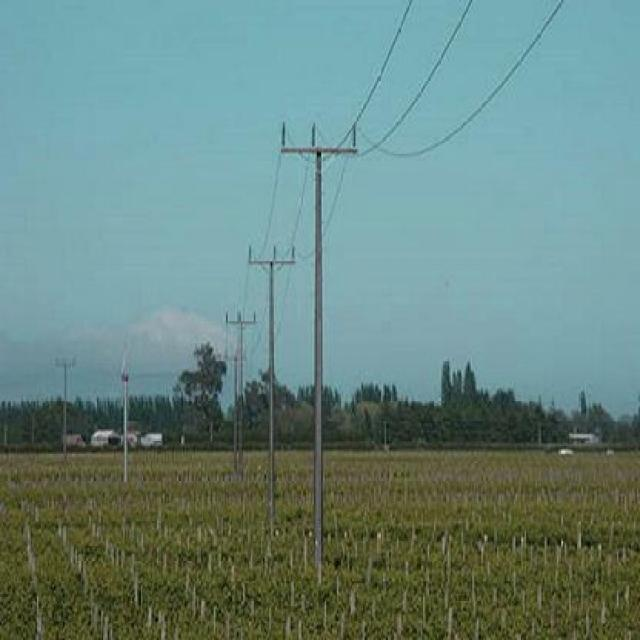pole: (270, 109, 376, 546)
